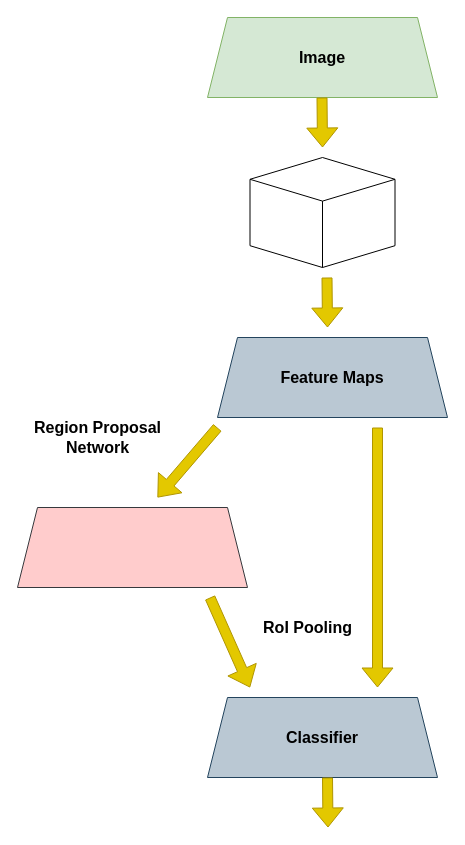
This 465x845 diagram has some shape labels left out. Each missing label, with the centre of its shape:
"Conv Layers" goes at point 322,212.
"Proposals" goes at point 132,547.
